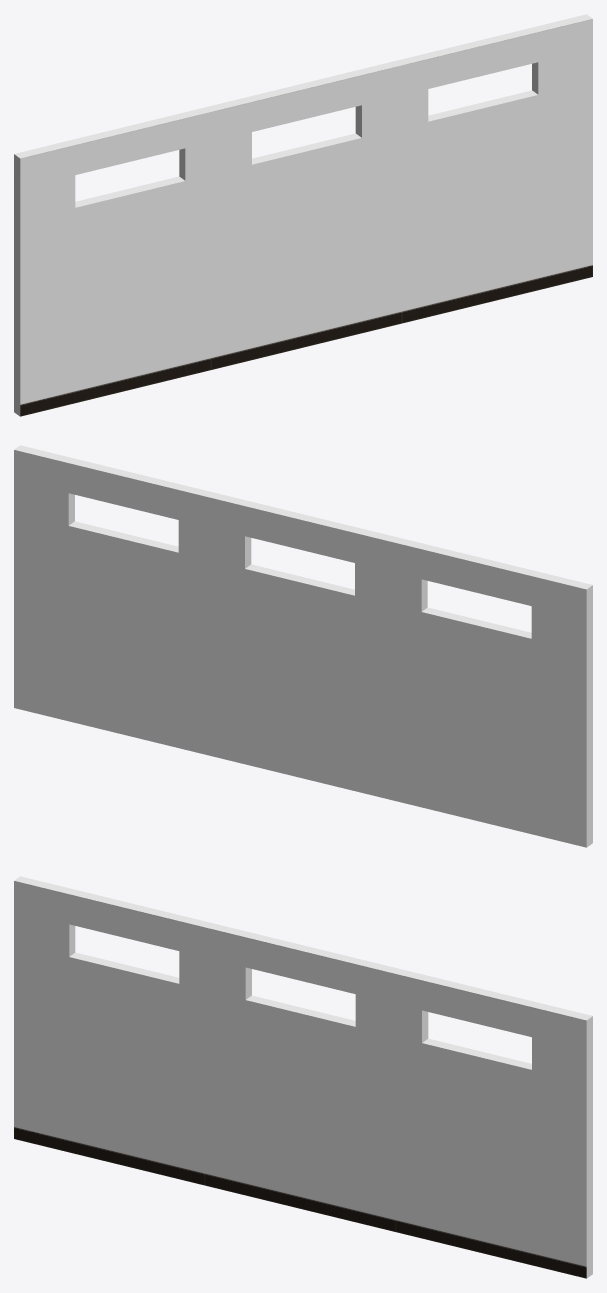
The model's file is Wall 3.FBX.
3 renders of one model, top to bottom at view 1: azimuth 30°, elevation 25°; view 2: azimuth 150°, elevation 25°; view 3: azimuth 330°, elevation 25°, orthographic.
Parts seen in each view (by area): view 1: Wall 3; view 2: Wall 3; view 3: Wall 3.
Part boxes in pixels (<box>): Wall 3: <box>14,14,592,416</box>; Wall 3: <box>14,445,592,847</box>; Wall 3: <box>14,876,592,1278</box>.
Bounding box in the file's own units: 703 × 303 × 13.24.
Materials: 2 (1 with a texture image).
